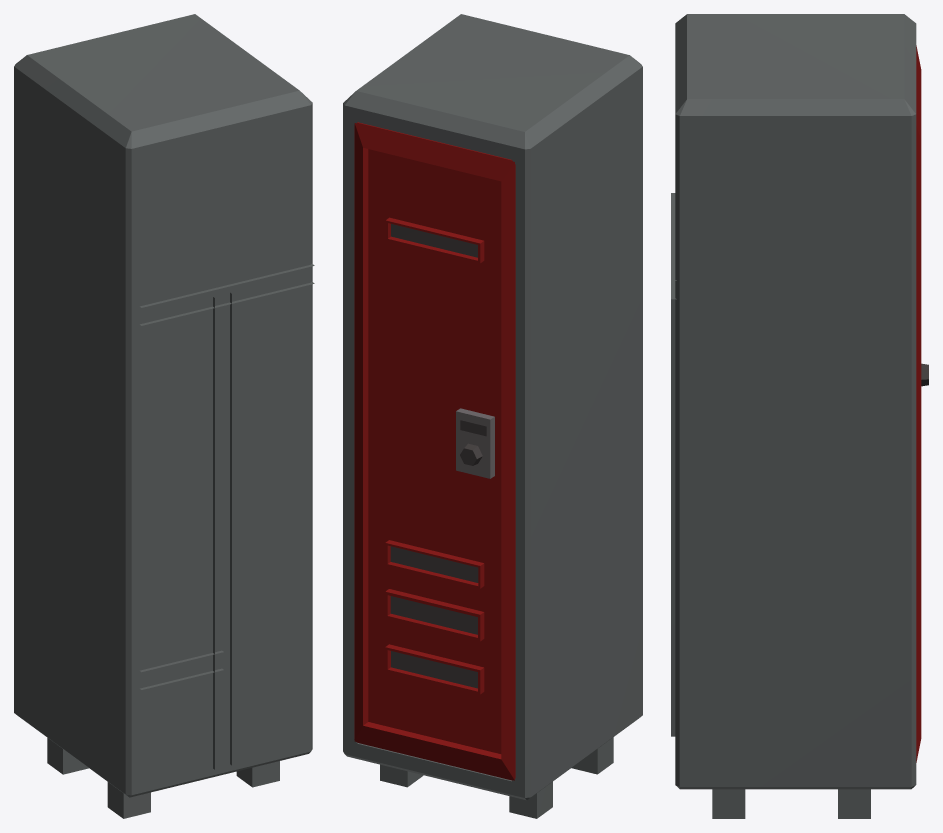
Rendered from g_o_FirefighterLocker.fbx.
The picture shows the model from 3 angles, left to right: view 1: azimuth 30°, elevation 25°; view 2: azimuth 150°, elevation 25°; view 3: azimuth 270°, elevation 25°; orthographic projection. The views are drawn at different scales.
Parts seen in each view (by area): view 1: locker_b; view 2: locker_b, locker_door; view 3: locker_b, locker_door.
Boxes of the visible parts, left/top/right/bottom form: locker_b: left=14, top=14, right=314, bottom=818; locker_b: left=343, top=14, right=642, bottom=818; locker_door: left=354, top=122, right=515, bottom=780; locker_b: left=671, top=14, right=916, bottom=818; locker_door: left=916, top=45, right=928, bottom=762.
Size of the model in its own units: 0.5144 by 1.83 by 0.592.
